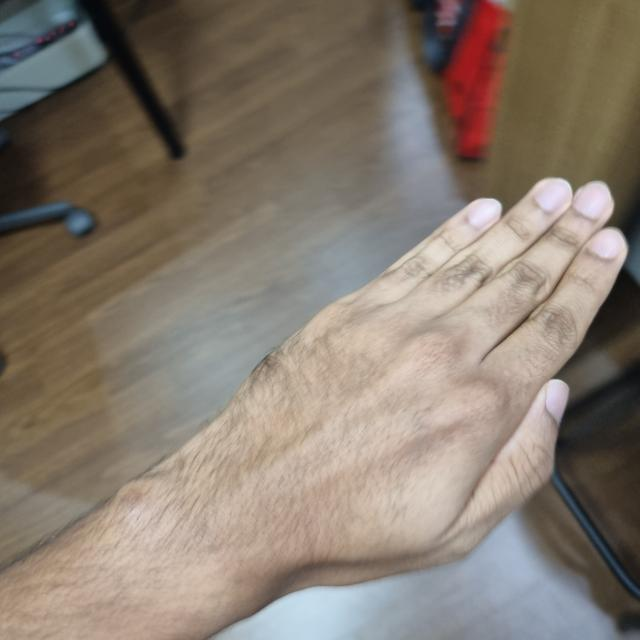Paper: (206, 179, 628, 580)
